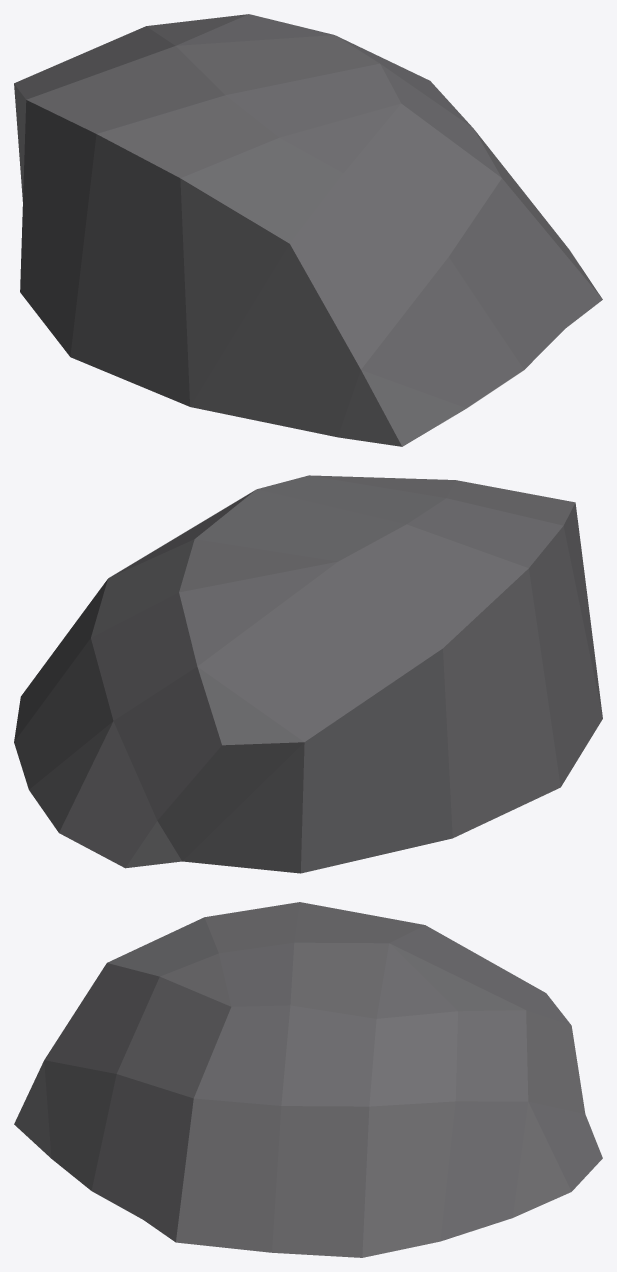
Rendered from Rock_03.glb.
3 views of the same model, one above another, from view 1: azimuth 30°, elevation 25°; view 2: azimuth 150°, elevation 25°; view 3: azimuth 270°, elevation 25° (orthographic). The views are drawn at different scales.
Visible parts, largest first — view 1: Rock_03; view 2: Rock_03; view 3: Rock_03.
Boxes of the visible parts, bbox=[...] form: Rock_03: bbox=[14, 14, 602, 446]; Rock_03: bbox=[14, 475, 602, 873]; Rock_03: bbox=[14, 902, 602, 1257].
Size of what is drawn, in the model's own units: 1.4 by 0.6138 by 1.78.
1 material, 1 textured.
